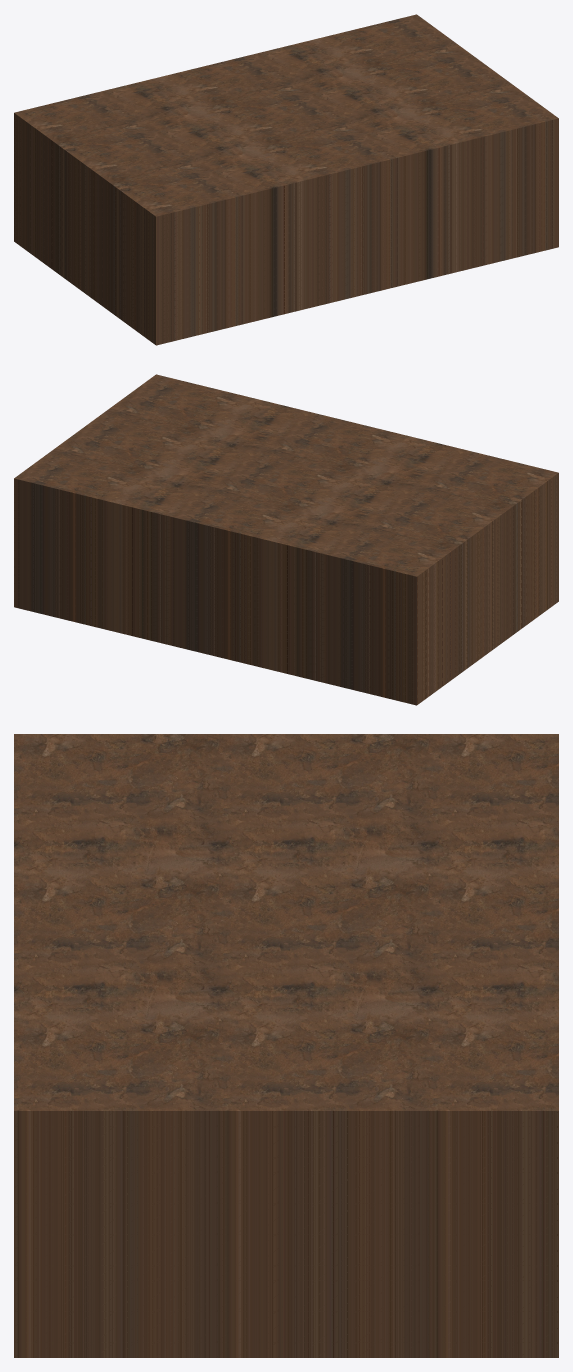
Rendered from groundwater.glb.
3 views of the same model, one above another, from view 1: azimuth 30°, elevation 25°; view 2: azimuth 150°, elevation 25°; view 3: azimuth 270°, elevation 25° (orthographic). The views are drawn at different scales.
Visible parts, largest first — view 1: GW_Aquifer; view 2: GW_Aquifer; view 3: GW_Aquifer.
Part boxes in pixels (<box>): GW_Aquifer: <box>14,14,558,345</box>; GW_Aquifer: <box>14,374,558,705</box>; GW_Aquifer: <box>14,734,558,1357</box>.
Bounding box in the file's own units: 3.6 × 1.1 × 2.2.
2 materials, 1 textured.
